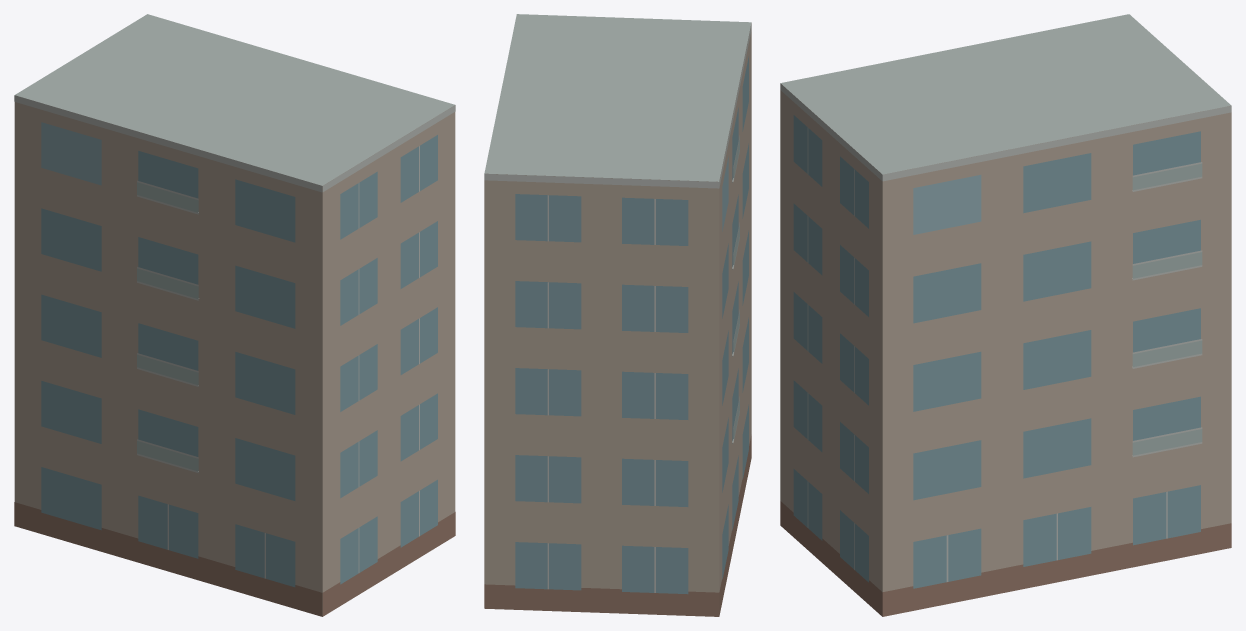
File: survey-upis-32540497.glb
3 views of the same model, side by side, from view 1: azimuth 30°, elevation 25°; view 2: azimuth 150°, elevation 25°; view 3: azimuth 270°, elevation 25° (orthographic). The views are drawn at different scales.
Parts seen in each view (by area): view 1: survey-upis-32540497.tmp; view 2: survey-upis-32540497.tmp; view 3: survey-upis-32540497.tmp.
Part boxes in pixels (x1,y1,x2,y2): survey-upis-32540497.tmp: (14, 14, 455, 616); survey-upis-32540497.tmp: (484, 14, 751, 616); survey-upis-32540497.tmp: (780, 14, 1231, 616).
Bounding box in the file's own units: 12.31 × 15.8 × 14.62.
